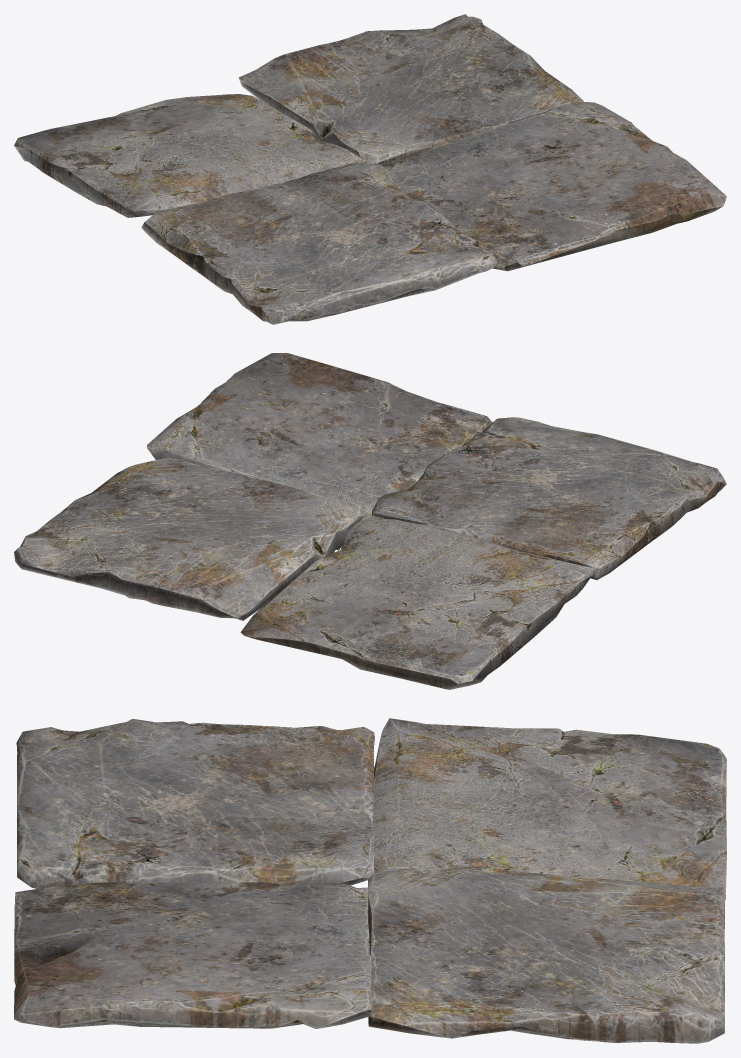
File: SM_GroundPlate05.FBX
3 renders of one model, top to bottom at view 1: azimuth 30°, elevation 25°; view 2: azimuth 150°, elevation 25°; view 3: azimuth 270°, elevation 25°, orthographic. The views are drawn at different scales.
Visible parts, largest first — view 1: SM_GroundPlate05; view 2: SM_GroundPlate05; view 3: SM_GroundPlate05.
Boxes of the visible parts, bbox=[...] form: SM_GroundPlate05: bbox=[14, 14, 726, 324]; SM_GroundPlate05: bbox=[14, 353, 726, 689]; SM_GroundPlate05: bbox=[14, 718, 726, 1043].
Bounding box in the file's own units: 1204 × 1207 × 117.
